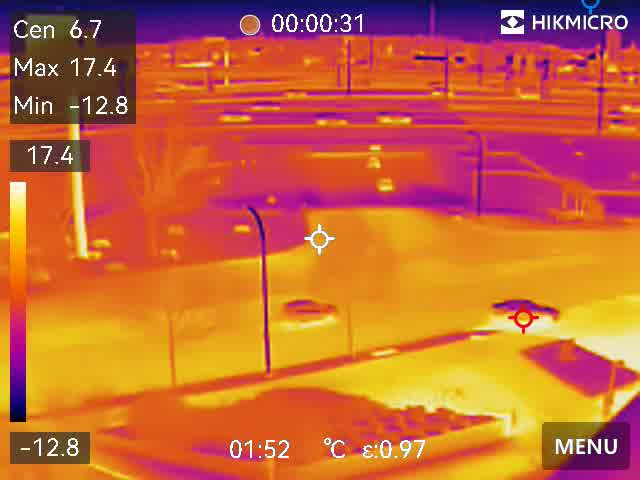smallCar: (486, 295, 563, 321)
vehicle: (280, 297, 338, 326), (375, 113, 413, 130), (313, 114, 354, 128), (218, 110, 251, 126), (608, 121, 637, 136), (374, 176, 394, 195), (365, 152, 382, 172), (428, 88, 454, 95)
